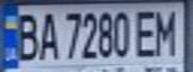0: (112, 7, 133, 58)
2: (78, 7, 100, 60)
7: (60, 8, 81, 61)
8: (96, 8, 115, 59)
A: (36, 9, 60, 61)
B: (9, 9, 42, 62)
E: (133, 7, 160, 58)
M: (151, 6, 181, 57)
